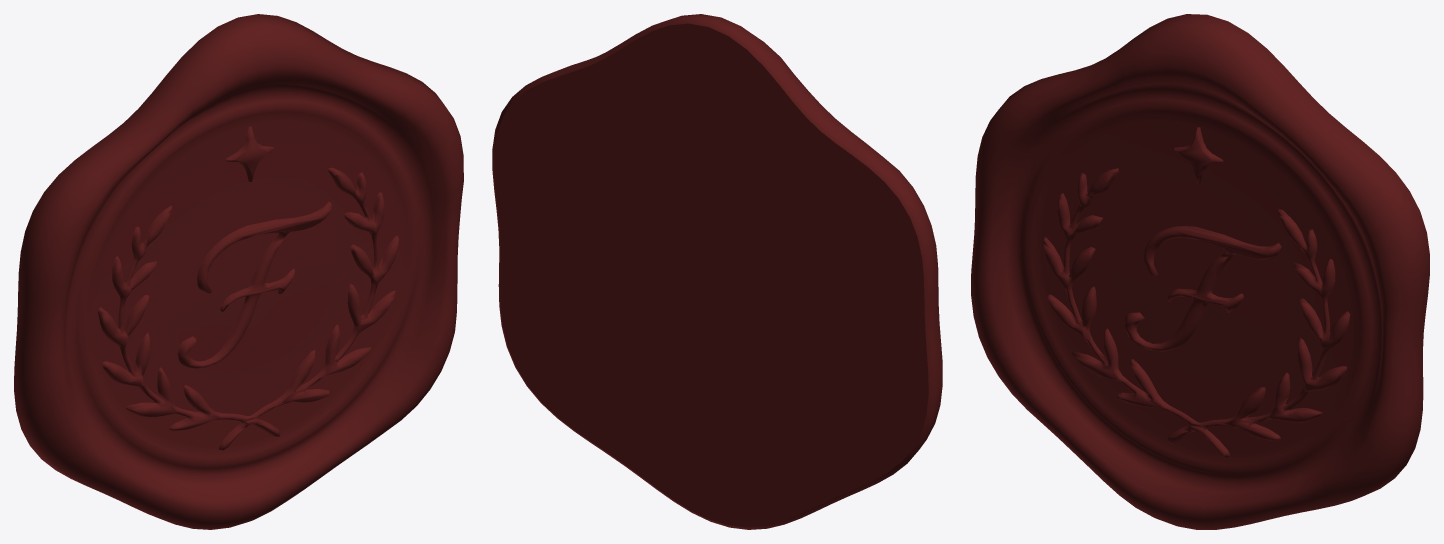
The picture shows the model from 3 angles, left to right: view 1: azimuth 30°, elevation 25°; view 2: azimuth 150°, elevation 25°; view 3: azimuth 330°, elevation 25°; orthographic projection. The views are drawn at different scales.
Visible parts, largest first — view 1: Wax_Body, Wax_Emblem; view 2: Wax_Body; view 3: Wax_Body, Wax_Emblem.
Part boxes in pixels (bbox=[...]): Wax_Body: bbox=[14, 14, 463, 529]; Wax_Emblem: bbox=[98, 126, 398, 450]; Wax_Body: bbox=[492, 14, 942, 529]; Wax_Body: bbox=[971, 14, 1429, 529]; Wax_Emblem: bbox=[1043, 127, 1350, 457].
Bounding box in the file's own units: 0.0273 × 0.0296 × 0.00253.
